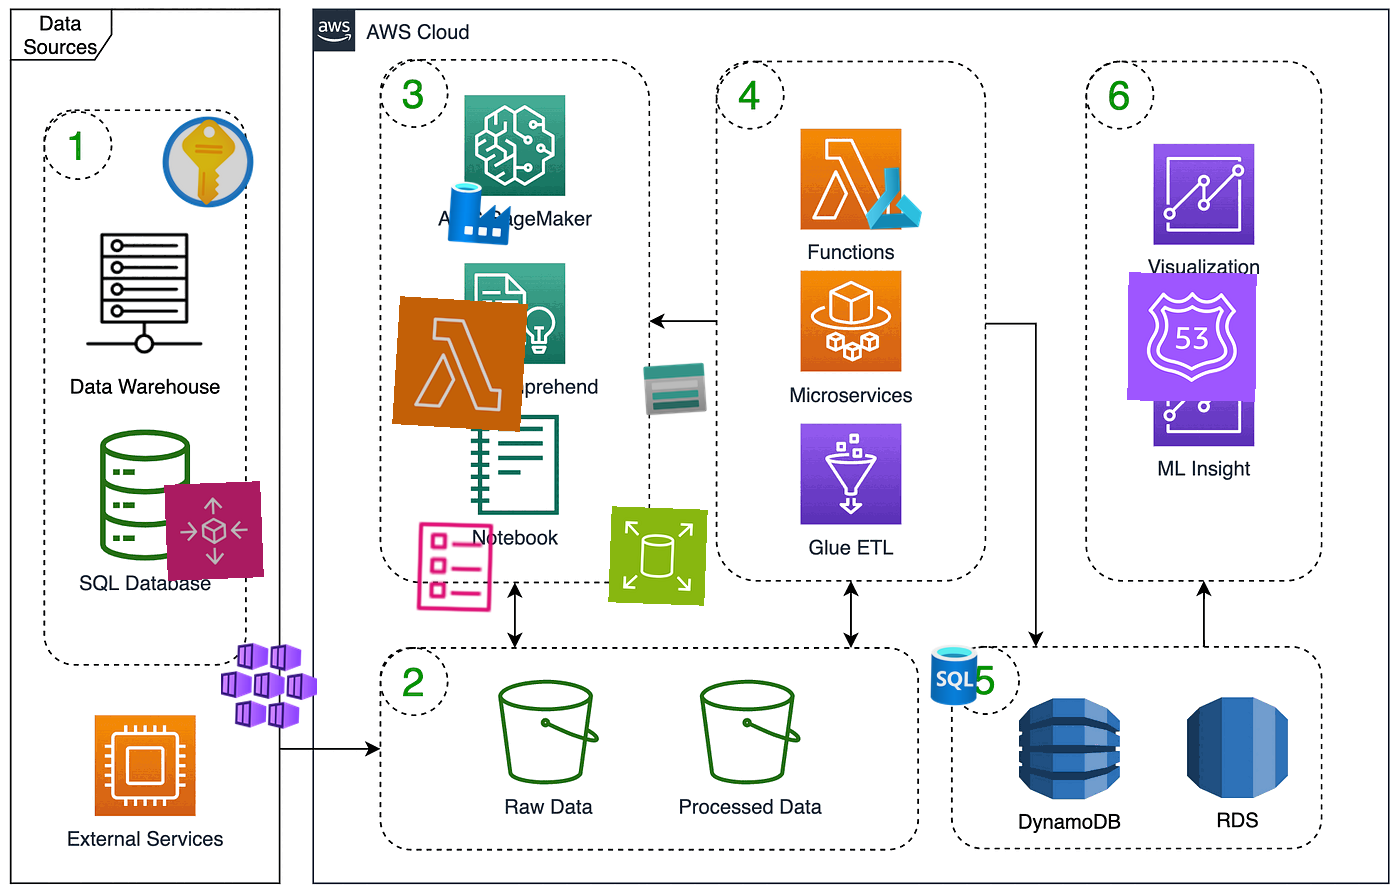aws_amazon_elastic_block_store: (608, 506, 708, 606)
aws_amazon_route_53: (1127, 272, 1257, 402)
aws_auto_scaling: (164, 481, 264, 581)
aws_cloudformation_template: (404, 517, 504, 617)
aws_lambda: (392, 296, 528, 432)
azure_data_factories: (445, 178, 515, 248)
azure_key_vaults: (158, 112, 258, 212)
azure_kubernetes_services: (219, 635, 319, 735)
azure_machine_learning: (859, 164, 927, 232)
azure_sql_database: (921, 642, 987, 708)
azure_storage_accounts: (640, 354, 710, 424)
